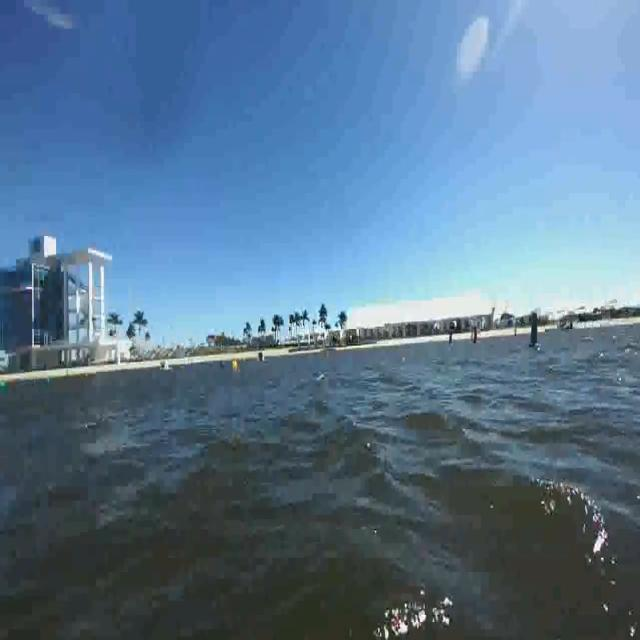green-column-buoy: (528, 307, 540, 355)
yellow-buoy: (232, 359, 240, 372)
